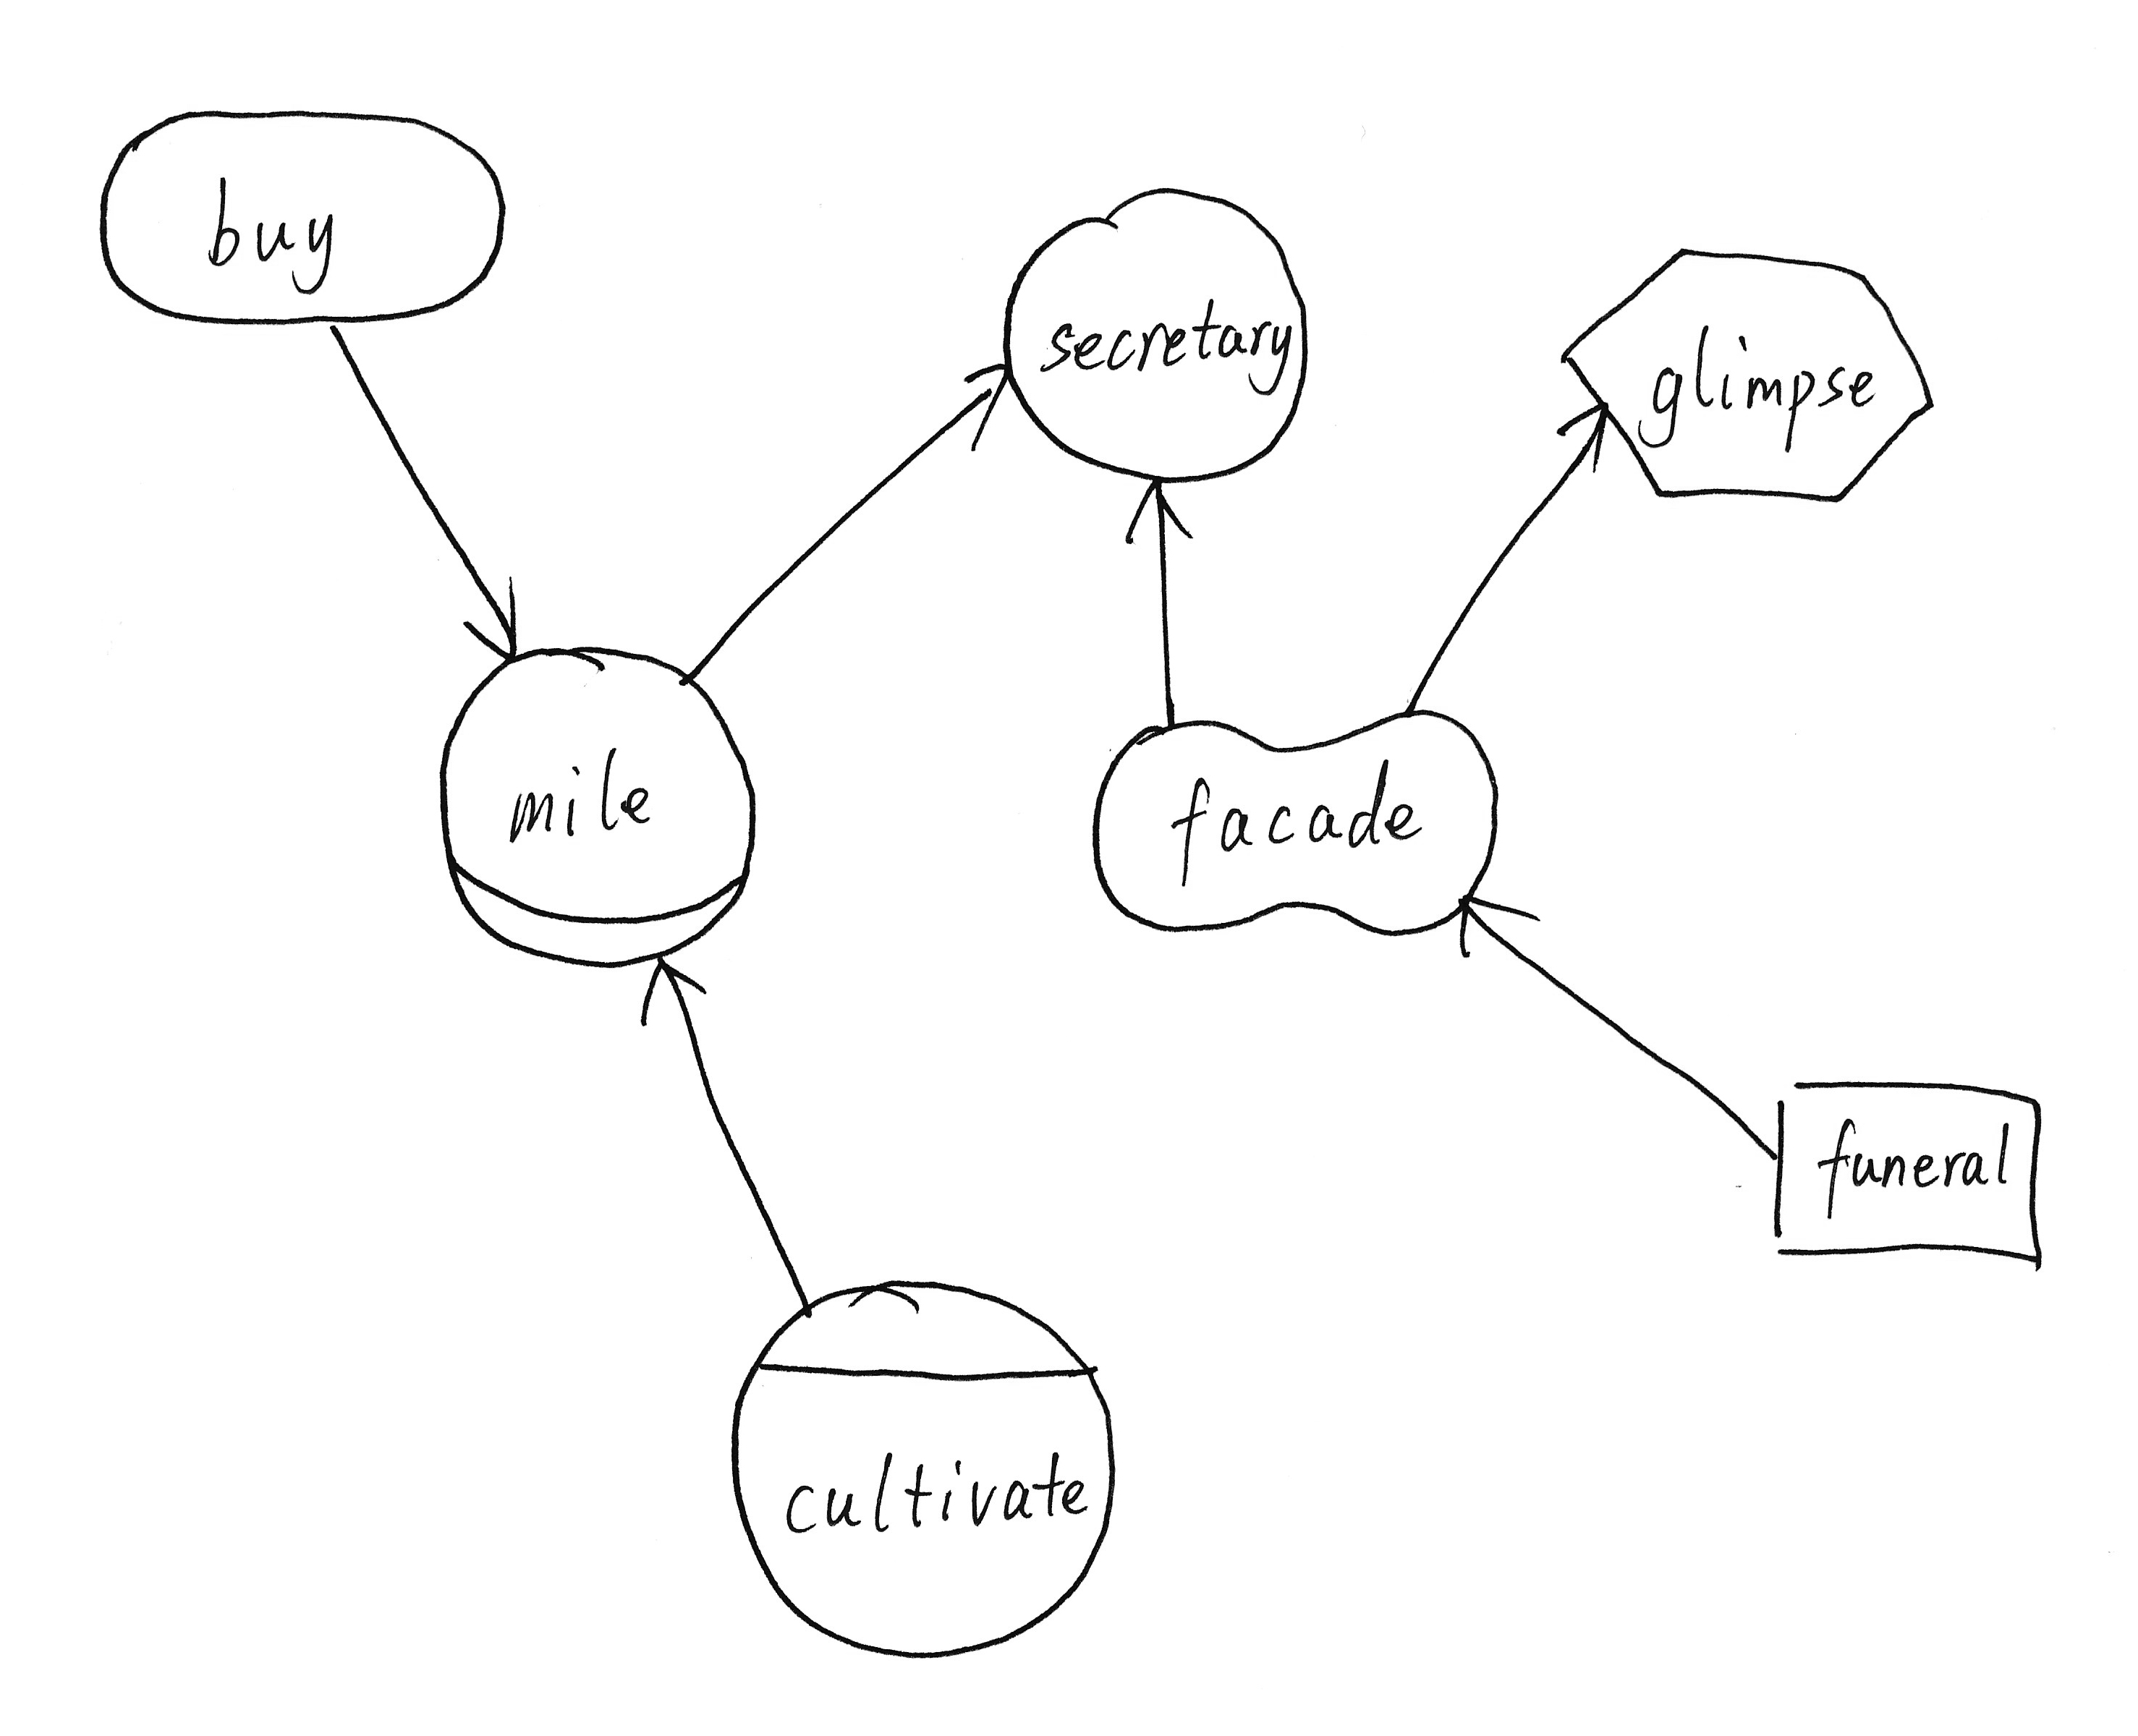actor: (987, 174, 1323, 496)
agent: (716, 1258, 1134, 1665)
arrow: (1447, 880, 1550, 978), (953, 344, 1027, 462), (1116, 464, 1203, 563), (452, 570, 535, 671), (625, 944, 716, 1035), (1548, 395, 1628, 469)
goal: (83, 94, 517, 337)
quality: (1077, 705, 1518, 951)
resource: (1757, 1061, 2065, 1288)
role: (423, 629, 774, 988)
task: (1550, 236, 1947, 517)
